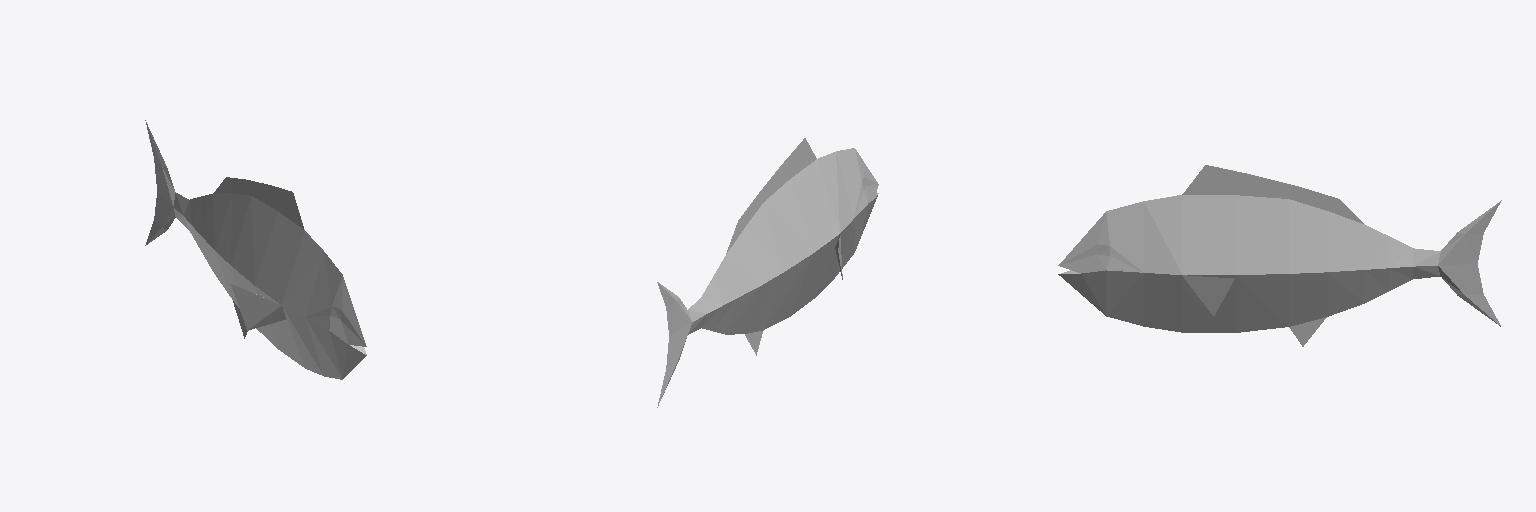
File: fish1.obj
3 views of the same model, side by side, from view 1: azimuth 30°, elevation 25°; view 2: azimuth 150°, elevation 25°; view 3: azimuth 270°, elevation 25° (orthographic).
Visible parts, largest first — view 1: fish1:TMD_object__0__VRAM_page__26; view 2: fish1:TMD_object__0__VRAM_page__26; view 3: fish1:TMD_object__0__VRAM_page__26.
Part boxes in pixels (x1,y1,x2,y2): fish1:TMD_object__0__VRAM_page__26: (145, 120, 366, 379); fish1:TMD_object__0__VRAM_page__26: (657, 138, 878, 407); fish1:TMD_object__0__VRAM_page__26: (1058, 165, 1501, 346).
Size of the model in its own units: 1.04 by 1.9 by 4.19.